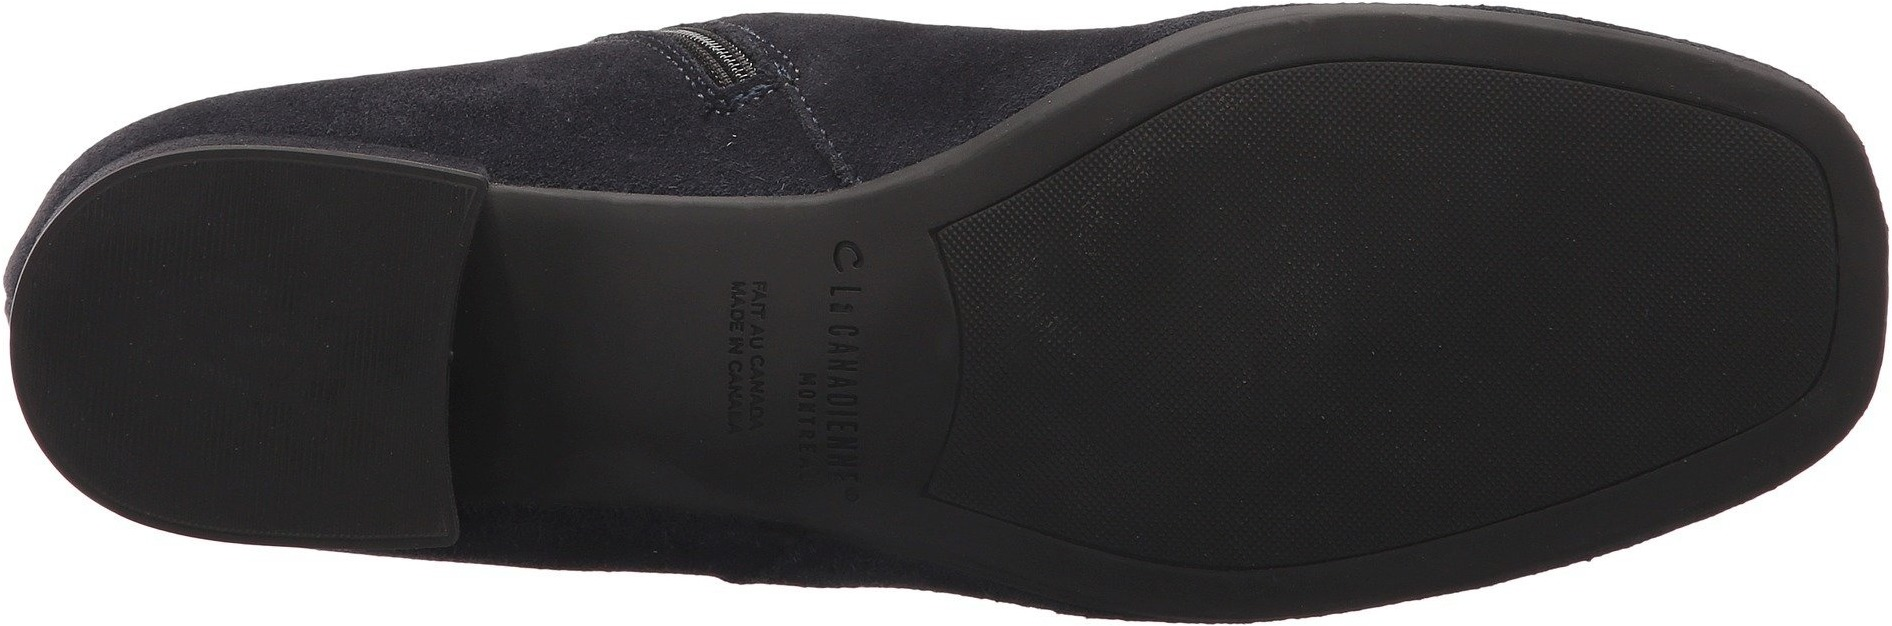other: (1175, 302, 1417, 532), (1421, 101, 1627, 328), (1179, 99, 1411, 296), (46, 248, 250, 438), (977, 213, 1173, 404), (1633, 162, 1818, 346), (262, 364, 446, 543), (256, 181, 439, 357), (1429, 351, 1590, 497), (1036, 414, 1175, 536)
